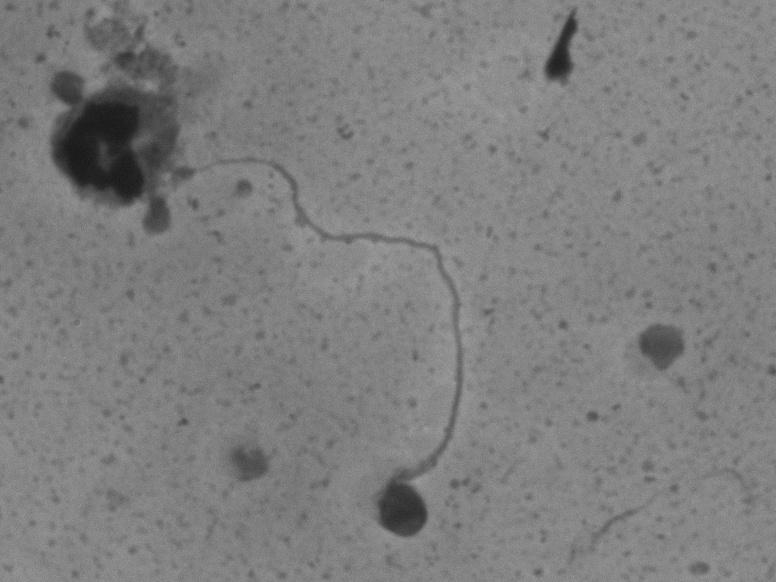Abnormal: (168, 121, 535, 542)
